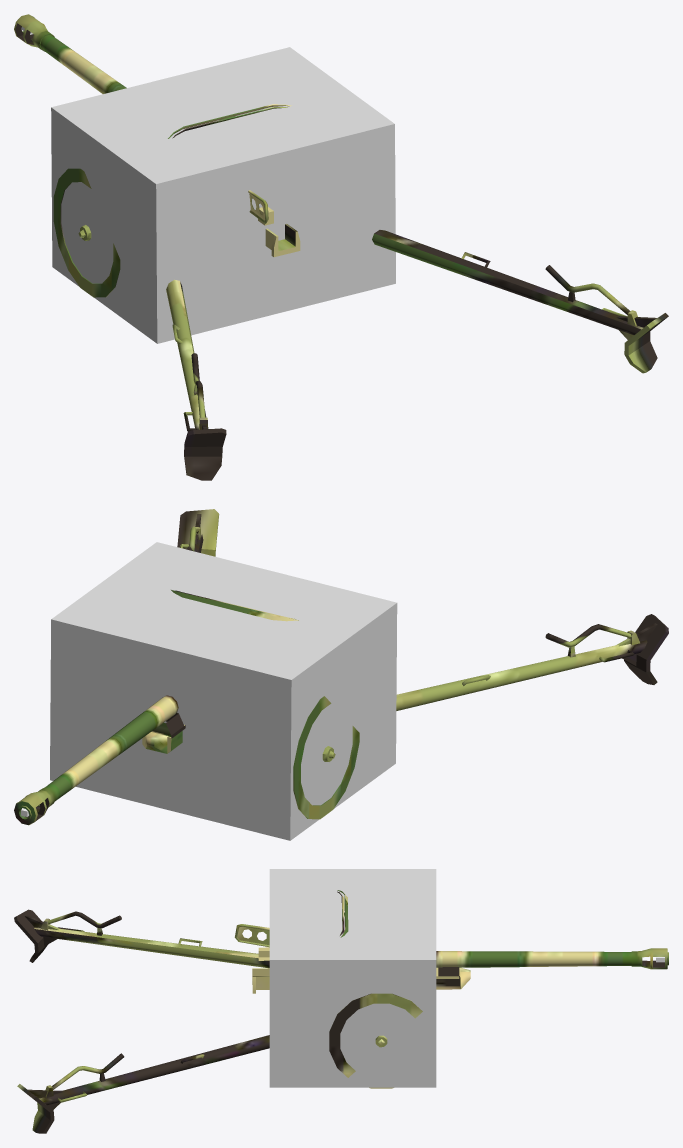
Rendered from pak38PaintedAABB.glb.
3 renders of one model, top to bottom at view 1: azimuth 30°, elevation 25°; view 2: azimuth 150°, elevation 25°; view 3: azimuth 270°, elevation 25°, orthographic. The views are drawn at different scales.
Visible parts, largest first — view 1: aabbBox, LOD01_pak0, LOD01_pak3, LOD01_pak1, LOD01_pak2; view 2: aabbBox, LOD01_pak0, LOD01_pak3, LOD01_pak2, LOD01_pak1; view 3: aabbBox, LOD01_pak0, LOD01_pak3, LOD01_pak2, LOD01_pak1.
Boxes of the visible parts, box(x1,y1,x2,y2) form: aabbBox: box(51, 47, 395, 343); LOD01_pak0: box(53, 168, 668, 480); LOD01_pak3: box(14, 14, 126, 93); LOD01_pak1: box(168, 104, 291, 225); LOD01_pak2: box(265, 224, 300, 257); aabbBox: box(50, 542, 397, 840); LOD01_pak0: box(177, 509, 668, 819); LOD01_pak3: box(14, 695, 178, 825); LOD01_pak2: box(142, 713, 185, 753); LOD01_pak1: box(171, 590, 298, 621); aabbBox: box(269, 869, 436, 1087); LOD01_pak0: box(14, 909, 422, 1133); LOD01_pak3: box(436, 948, 668, 969); LOD01_pak2: box(252, 967, 470, 993); LOD01_pak1: box(234, 890, 348, 960).
Bounding box in the file's own units: 9.09 × 3.04 × 13.44.
Materials: 4 (2 with a texture image).
